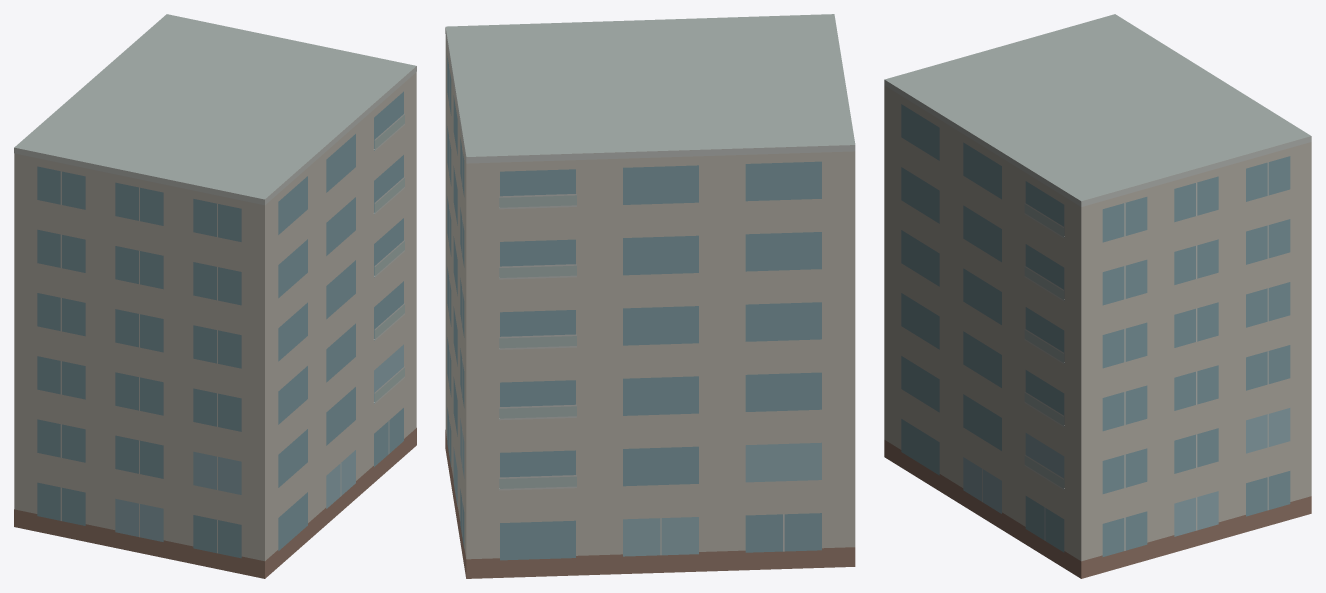
The model's file is survey-upis-32883365.glb.
3 renders of one model, left to right at view 1: azimuth 30°, elevation 25°; view 2: azimuth 150°, elevation 25°; view 3: azimuth 270°, elevation 25°, orthographic. The views are drawn at different scales.
Visible parts, largest first — view 1: survey-upis-32883365.tmp; view 2: survey-upis-32883365.tmp; view 3: survey-upis-32883365.tmp.
Part boxes in pixels (x1,y1,x2,y2): survey-upis-32883365.tmp: (14, 14, 416, 578); survey-upis-32883365.tmp: (445, 14, 855, 578); survey-upis-32883365.tmp: (884, 14, 1311, 578).
Bounding box in the file's own units: 16.93 × 15.9 × 16.31.
